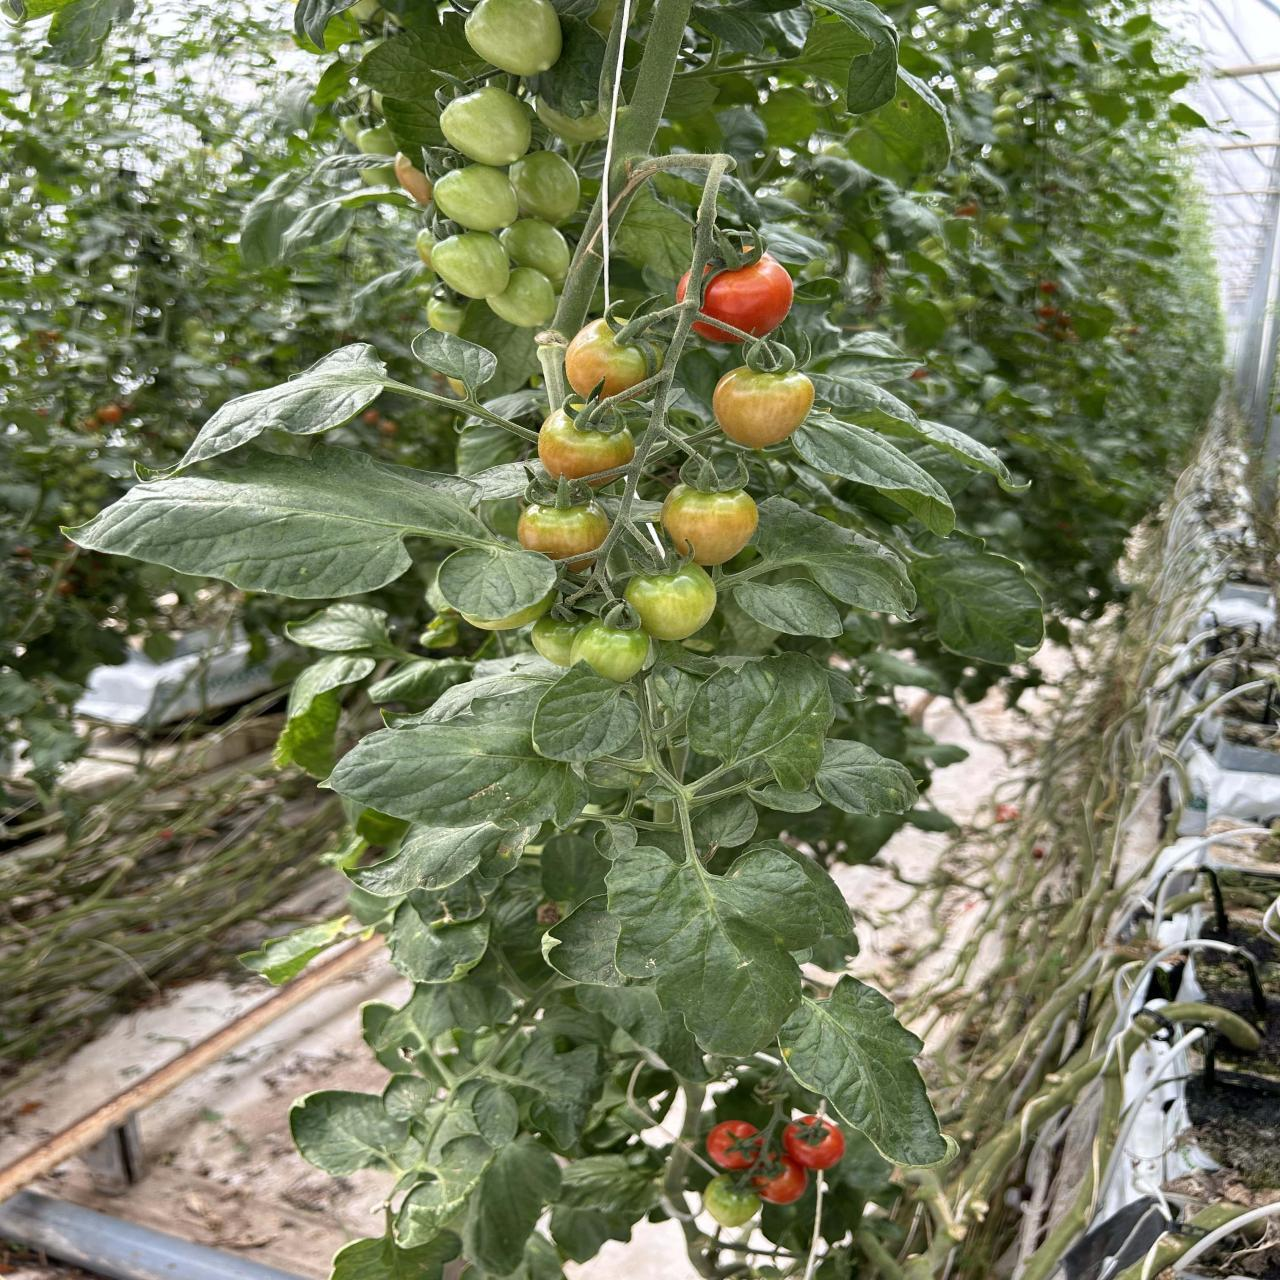Hoja: (66, 443, 518, 599), (599, 845, 822, 1056), (329, 678, 573, 825), (778, 976, 946, 1165), (179, 342, 390, 468), (806, 372, 1009, 478), (687, 653, 833, 790), (756, 497, 915, 612), (912, 532, 1043, 665), (791, 409, 948, 504), (462, 1138, 563, 1275), (533, 666, 640, 762), (290, 1091, 408, 1175), (728, 578, 842, 638), (331, 1230, 461, 1280), (459, 1081, 518, 1149)
Pedunculo: (551, 0, 692, 345)
Tomate: (713, 366, 815, 450), (660, 485, 758, 566), (701, 252, 794, 338), (624, 561, 716, 641), (465, 0, 561, 76), (441, 87, 530, 165), (565, 318, 648, 399), (538, 410, 634, 479), (434, 164, 518, 232), (429, 232, 510, 299), (517, 503, 611, 560), (509, 151, 580, 224), (572, 620, 653, 682), (501, 219, 571, 281), (486, 267, 556, 327), (782, 1114, 844, 1171), (702, 1173, 761, 1227), (750, 1151, 808, 1204), (706, 1119, 762, 1171), (693, 322, 728, 341)
